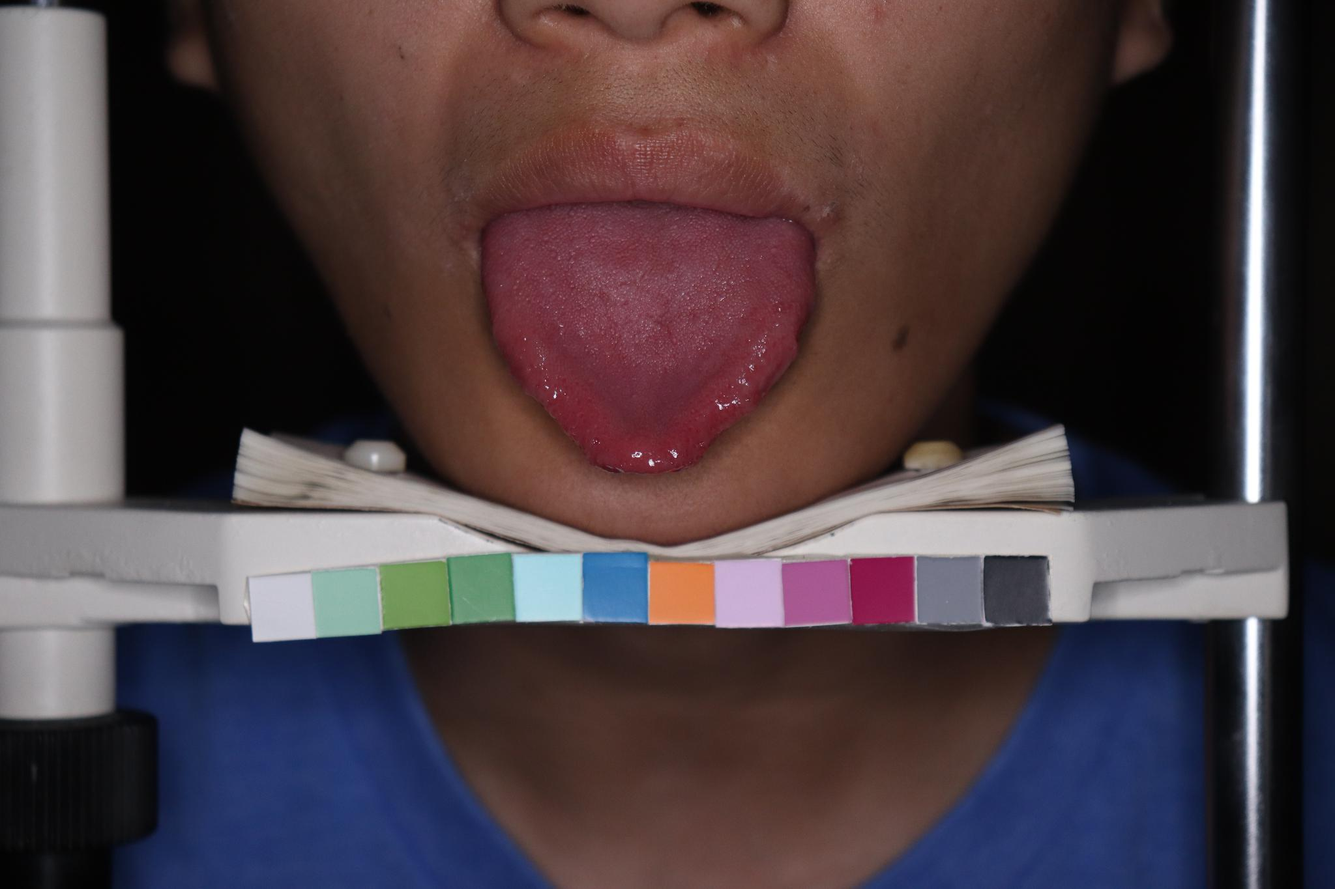hongdianshe: (535, 375, 600, 435)
hongshe: (483, 201, 814, 476)
